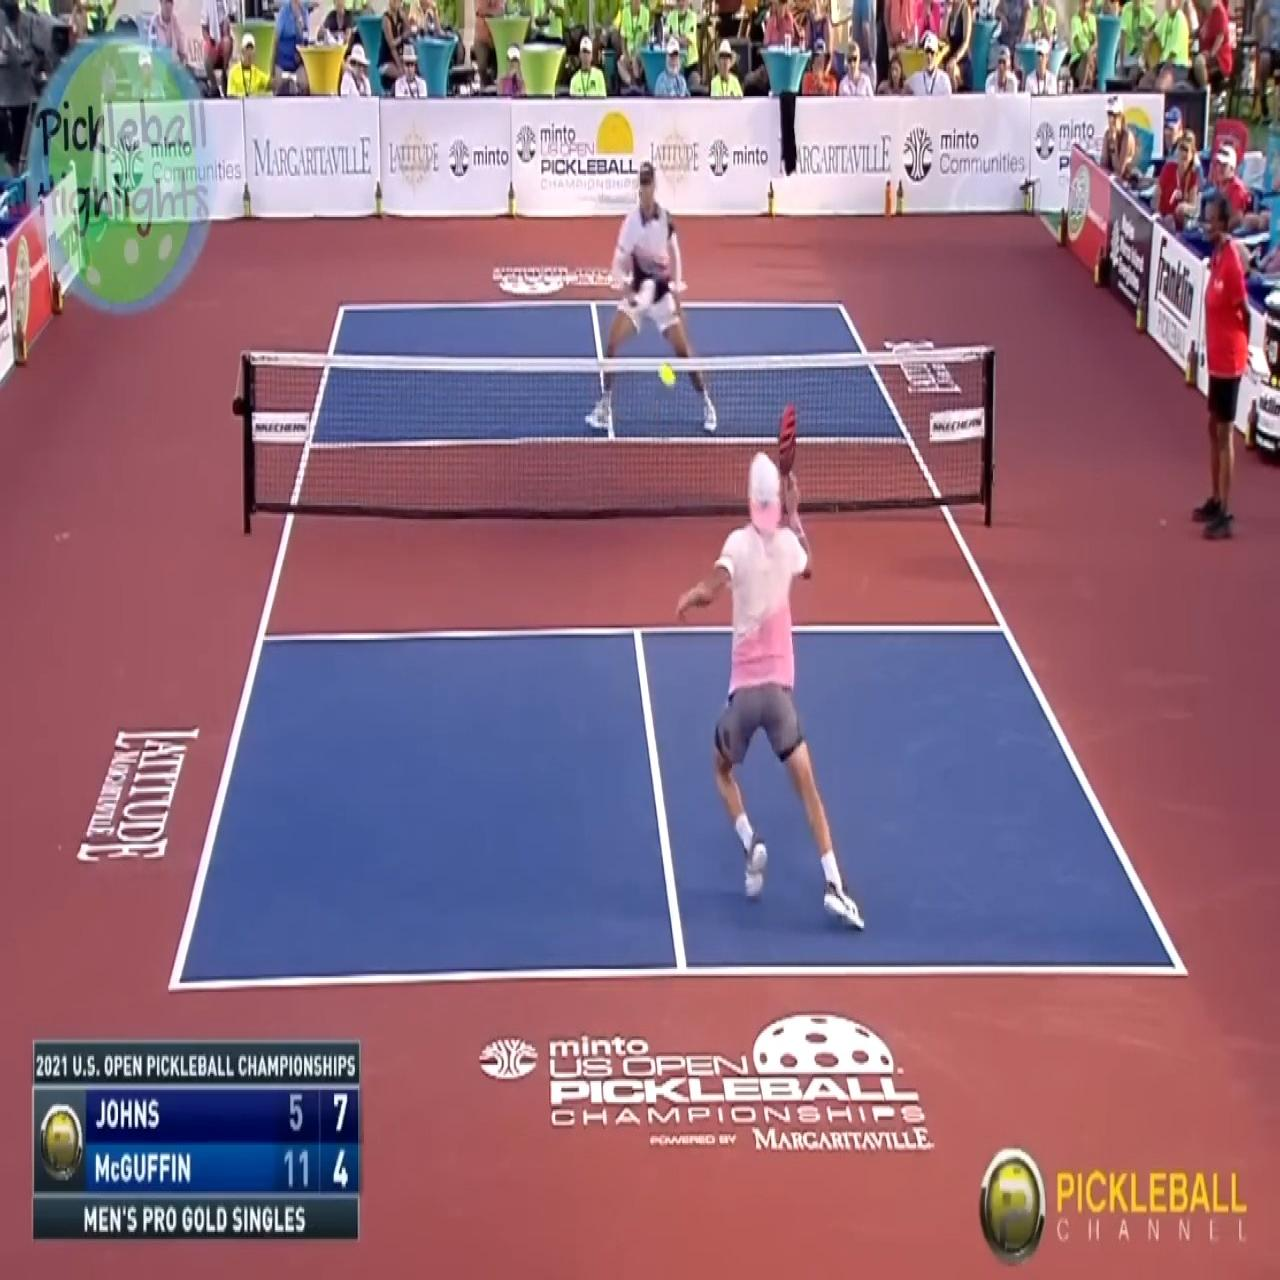pickleball: (658, 362, 676, 386)
